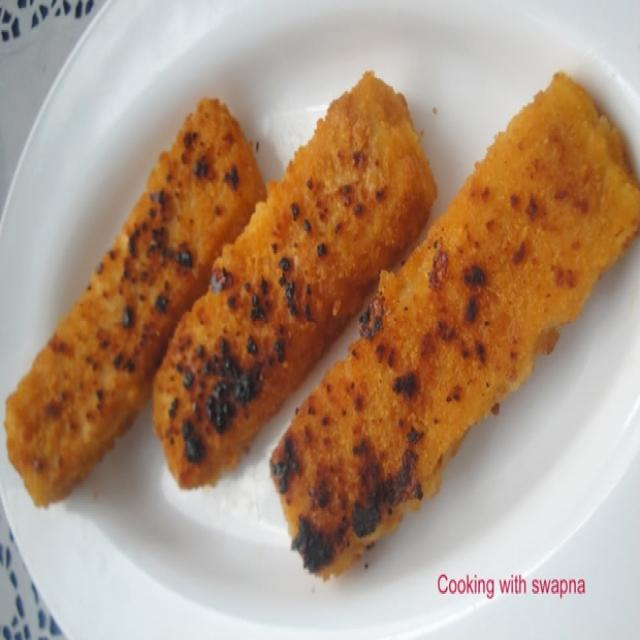鸡肉料理 含炸鸡: (15, 57, 632, 581)
